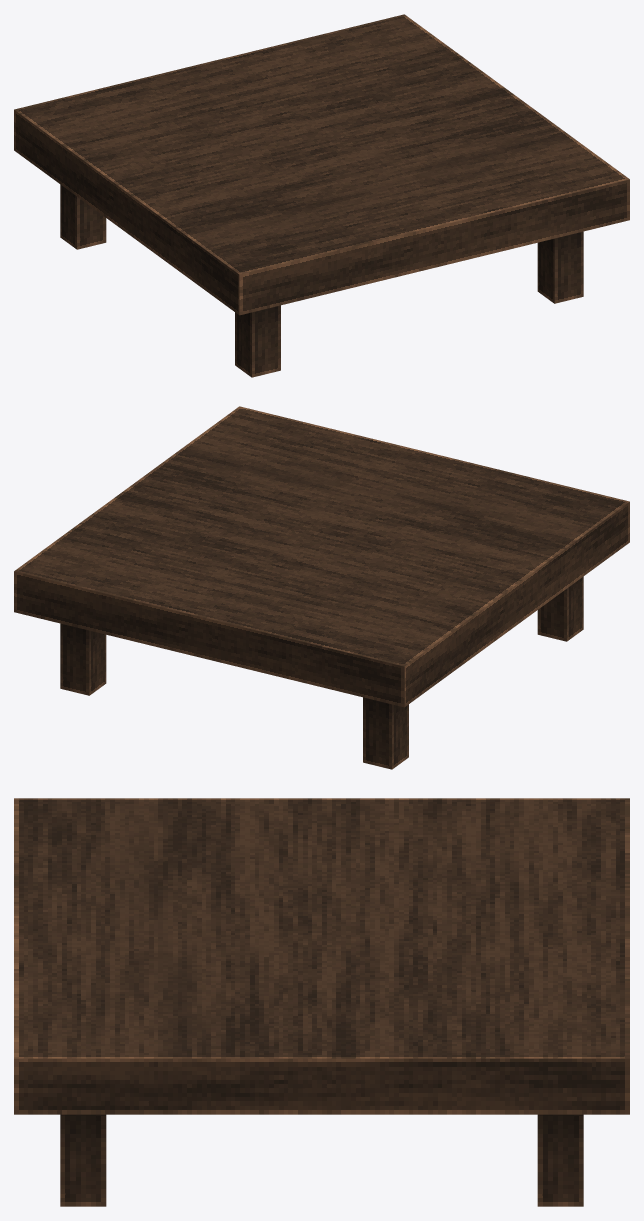
Rendered from dining_table_2x2.glb.
3 views of the same model, one above another, from view 1: azimuth 30°, elevation 25°; view 2: azimuth 150°, elevation 25°; view 3: azimuth 270°, elevation 25° (orthographic). The views are drawn at different scales.
Parts seen in each view (by area): view 1: dining_table_2x2; view 2: dining_table_2x2; view 3: dining_table_2x2.
Part boxes in pixels (bbox=[...]): dining_table_2x2: bbox=[14, 14, 629, 377]; dining_table_2x2: bbox=[14, 406, 629, 769]; dining_table_2x2: bbox=[14, 798, 629, 1206].
Size of the model in its own units: 2 by 0.6 by 2.
Materials: 1 (1 with a texture image).
